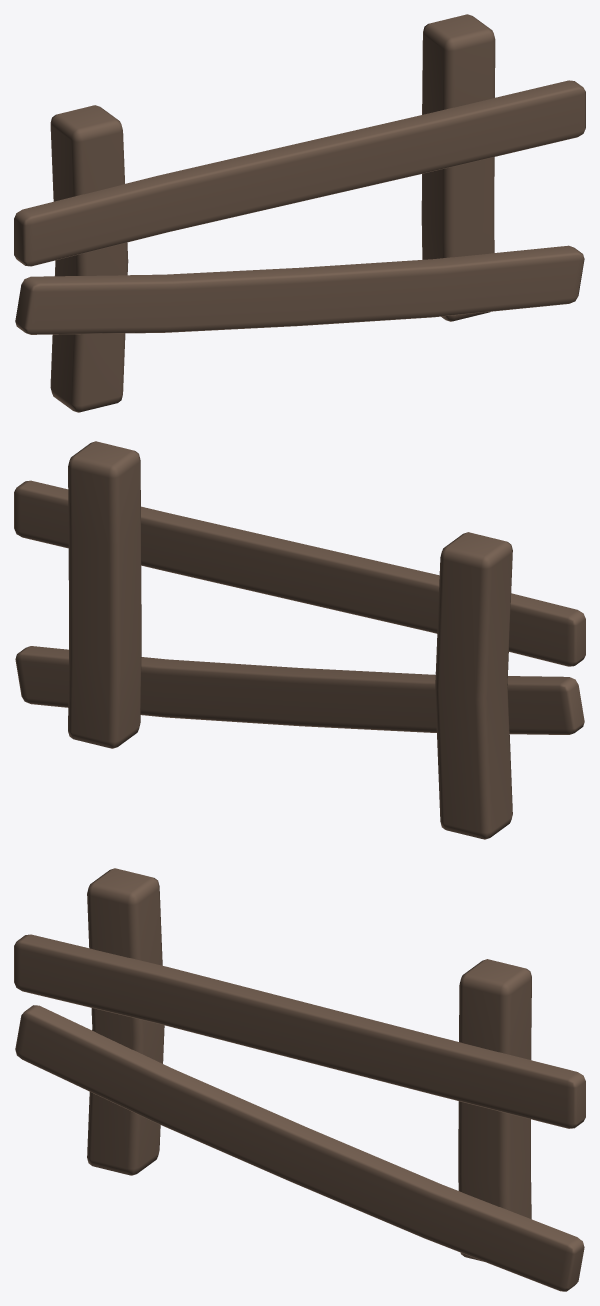
File: FenceC.fbx
3 views of the same model, one above another, from view 1: azimuth 30°, elevation 25°; view 2: azimuth 150°, elevation 25°; view 3: azimuth 330°, elevation 25° (orthographic).
Parts seen in each view (by area): view 1: FenceC; view 2: FenceC; view 3: FenceC.
Part boxes in pixels (left/top/right/bottom): FenceC: left=14, top=14, right=585, bottom=412; FenceC: left=14, top=441, right=585, bottom=839; FenceC: left=14, top=868, right=585, bottom=1291.
Size of the model in its own units: 166 by 79.99 by 19.72.
